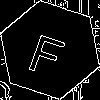F: (25, 25, 71, 78)
